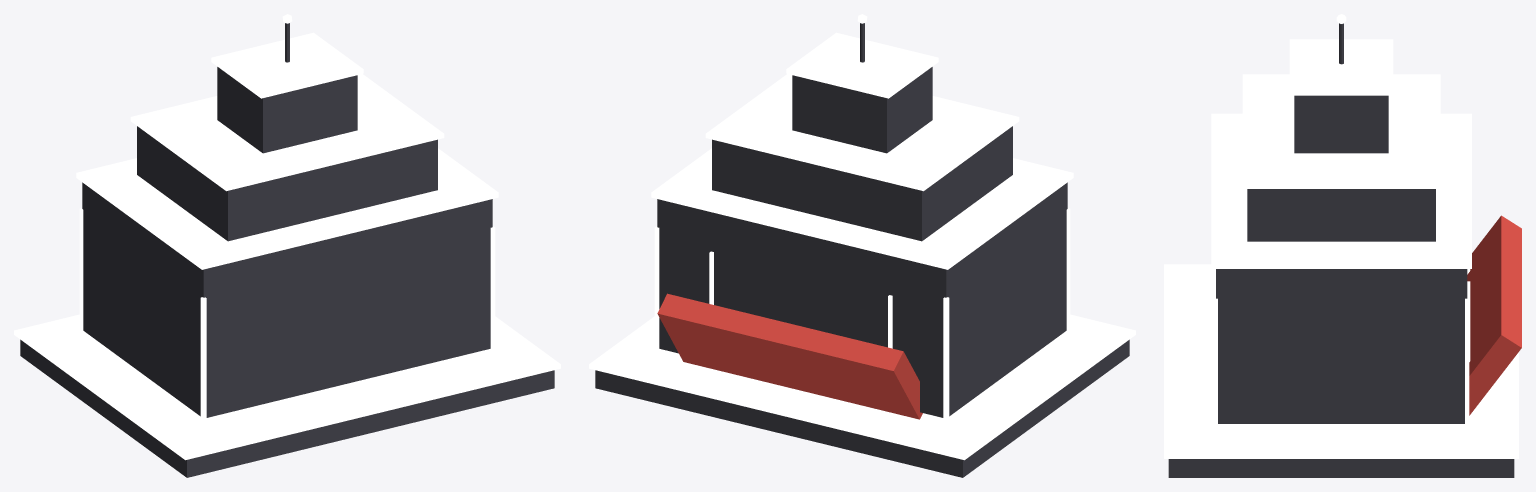
The model's file is xuanchao_base.fbx.
3 renders of one model, left to right at view 1: azimuth 30°, elevation 25°; view 2: azimuth 150°, elevation 25°; view 3: azimuth 270°, elevation 25°, orthographic. The views are drawn at different scales.
Parts seen in each view (by area): view 1: XC_base_main, XC_base_skirt_red, XC_base_upper, XC_base_upper_red, XC_base_main_red, XC_base_skirt, XC_base_turret, XC_base_turret_red, XC_base_edge0, XC_base_edge1, XC_base_edge2; view 2: XC_base_main, XC_base_skirt_red, XC_base_frontplate, XC_base_upper, XC_base_upper_red, XC_base_main_red, XC_base_skirt, XC_base_turret, XC_base_turret_red, XC_base_edge2, XC_base_edge3, XC_base_edge0; view 3: XC_base_main, XC_base_skirt_red, XC_base_main_red, XC_base_upper_red, XC_base_upper, XC_base_frontplate, XC_base_skirt, XC_base_turret_red, XC_base_turret, XC_base_edge1, XC_base_edge3.
Boxes of the visible parts, bbox=[...] form: XC_base_main: bbox=[82, 182, 492, 417]; XC_base_skirt_red: bbox=[14, 314, 560, 460]; XC_base_upper: bbox=[137, 126, 437, 241]; XC_base_upper_red: bbox=[130, 74, 444, 191]; XC_base_main_red: bbox=[76, 148, 498, 269]; XC_base_skirt: bbox=[20, 339, 554, 477]; XC_base_turret: bbox=[217, 67, 357, 153]; XC_base_turret_red: bbox=[211, 32, 363, 98]; XC_base_edge0: bbox=[200, 297, 206, 419]; XC_base_edge1: bbox=[490, 226, 495, 349]; XC_base_edge2: bbox=[79, 208, 83, 330]; XC_base_main: bbox=[657, 182, 1067, 417]; XC_base_skirt_red: bbox=[589, 314, 1135, 460]; XC_base_frontplate: bbox=[657, 293, 922, 419]; XC_base_upper: bbox=[712, 126, 1012, 241]; XC_base_upper_red: bbox=[705, 74, 1019, 191]; XC_base_main_red: bbox=[651, 148, 1073, 269]; XC_base_skirt: bbox=[595, 339, 1129, 477]; XC_base_turret: bbox=[792, 67, 932, 153]; XC_base_turret_red: bbox=[786, 32, 938, 98]; XC_base_edge2: bbox=[943, 297, 949, 419]; XC_base_edge3: bbox=[654, 226, 659, 349]; XC_base_edge0: bbox=[1066, 208, 1070, 330]; XC_base_main: bbox=[1216, 269, 1467, 423]; XC_base_skirt_red: bbox=[1164, 264, 1518, 458]; XC_base_main_red: bbox=[1211, 113, 1471, 268]; XC_base_upper_red: bbox=[1242, 74, 1440, 188]; XC_base_upper: bbox=[1247, 189, 1435, 241]; XC_base_frontplate: bbox=[1467, 215, 1521, 415]; XC_base_skirt: bbox=[1168, 459, 1514, 477]; XC_base_turret_red: bbox=[1289, 39, 1393, 95]; XC_base_turret: bbox=[1294, 95, 1388, 153]; XC_base_edge1: bbox=[1213, 297, 1217, 424]; XC_base_edge3: bbox=[1465, 297, 1469, 424].
Size of the model in its own units: 14.3 by 13.03 by 11.39.
